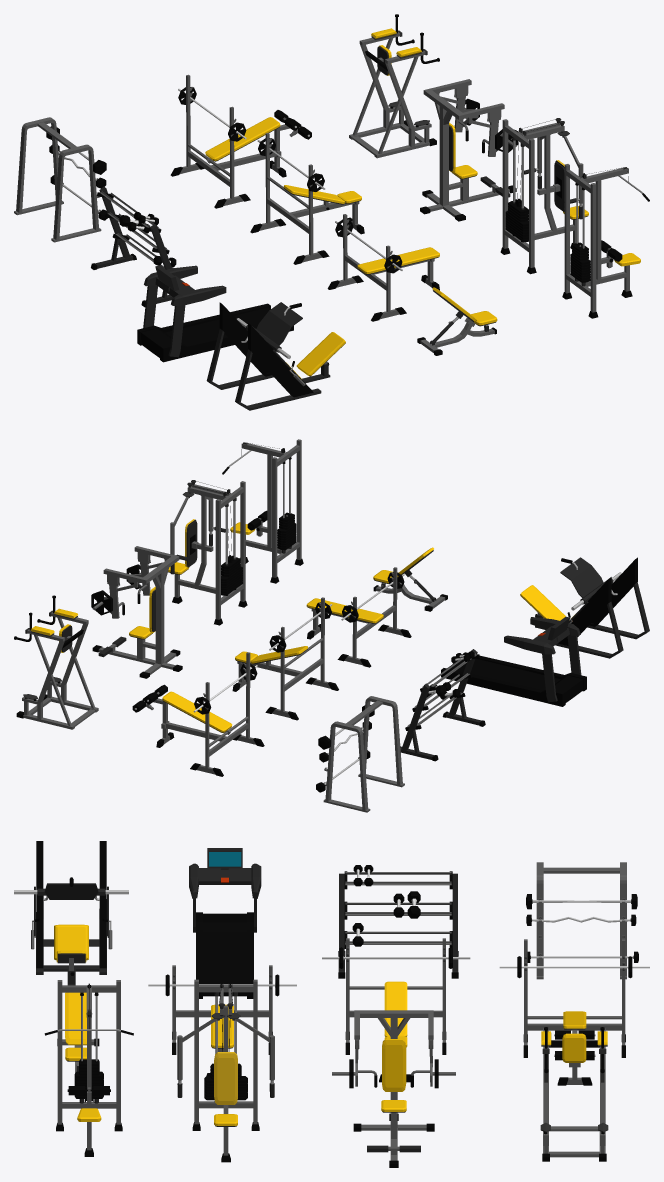
Rendered from gym_equipment.glb.
The picture shows the model from 3 angles, top to bottom: view 1: azimuth 30°, elevation 25°; view 2: azimuth 150°, elevation 25°; view 3: azimuth 270°, elevation 25°; orthographic projection. The views are drawn at different scales.
Visible parts, largest first — view 1: Feetpress_11, Butterfly_4, Treadmill_1, Shoulder_6, Armpit_3, Bench press-dn_5, Parallel_7, Hulter stand_10, Bench press-up_2, Bench press_0, Dumbbell stand_9, Arc Bench_8; view 2: Treadmill_1, Butterfly_4, Feetpress_11, Shoulder_6, Armpit_3, Bench press-dn_5, Parallel_7, Hulter stand_10, Bench press-up_2, Dumbbell stand_9, Bench press_0, Arc Bench_8; view 3: Treadmill_1, Butterfly_4, Feetpress_11, Shoulder_6, Armpit_3, Dumbbell stand_9, Bench press-dn_5, Parallel_7, Hulter stand_10, Bench press-up_2, Bench press_0, Arc Bench_8.
Part boxes in pixels (left/top/right/bottom): Feetpress_11: left=206, top=302, right=345, bottom=410; Butterfly_4: left=500, top=118, right=588, bottom=274; Treadmill_1: left=137, top=265, right=293, bottom=362; Shoulder_6: left=420, top=79, right=518, bottom=221; Armpit_3: left=562, top=164, right=649, bottom=318; Bench press-dn_5: left=170, top=74, right=311, bottom=208; Parallel_7: left=349, top=14, right=439, bottom=158; Hulter stand_10: left=14, top=117, right=107, bottom=242; Bench press-up_2: left=250, top=133, right=364, bottom=264; Bench press_0: left=327, top=214, right=439, bottom=321; Dumbbell stand_9: left=91, top=186, right=176, bottom=307; Arc Bench_8: left=417, top=287, right=497, bottom=355; Treadmill_1: left=441, top=616, right=586, bottom=706; Butterfly_4: left=168, top=480, right=247, bottom=625; Feetpress_11: left=520, top=557, right=649, bottom=658; Shoulder_6: left=91, top=546, right=182, bottom=678; Armpit_3: left=222, top=439, right=303, bottom=583; Bench press-dn_5: left=132, top=652, right=264, bottom=776; Parallel_7: left=14, top=595, right=98, bottom=729; Hulter stand_10: left=316, top=696, right=404, bottom=812; Bench press-up_2: left=232, top=597, right=338, bottom=720; Dumbbell stand_9: left=400, top=649, right=485, bottom=761; Bench press_0: left=306, top=567, right=411, bottom=667; Arc Bench_8: left=373, top=547, right=447, bottom=611; Treadmill_1: left=189, top=848, right=261, bottom=998; Butterfly_4: left=177, top=979, right=274, bottom=1162; Feetpress_11: left=14, top=841, right=128, bottom=985; Shoulder_6: left=332, top=1010, right=455, bottom=1167; Armpit_3: left=44, top=980, right=133, bottom=1156; Dumbbell stand_9: left=338, top=865, right=458, bottom=978; Bench press-dn_5: left=499, top=939, right=649, bottom=1085; Parallel_7: left=540, top=1027, right=608, bottom=1161; Hulter stand_10: left=526, top=862, right=638, bottom=979; Bench press-up_2: left=322, top=938, right=470, bottom=1082; Bench press_0: left=148, top=965, right=296, bottom=1075; Arc Bench_8: left=57, top=992, right=99, bottom=1072.
Bounding box in the file's own units: 19.94 × 5.85 × 22.31.
1 material, 1 textured.
